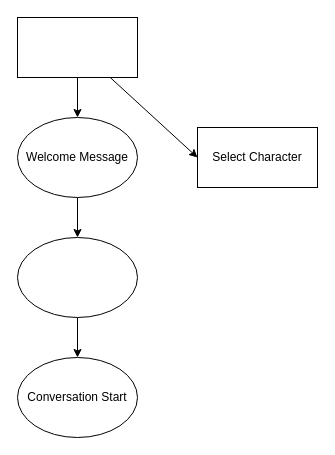
The diagram is 335 pixels wide and 455 high, and some of its shapes have lost their labels. Each missing label, with the centre of its shape:
Add Friend: (x=77, y=47)
Self Introduction: (x=77, y=277)
